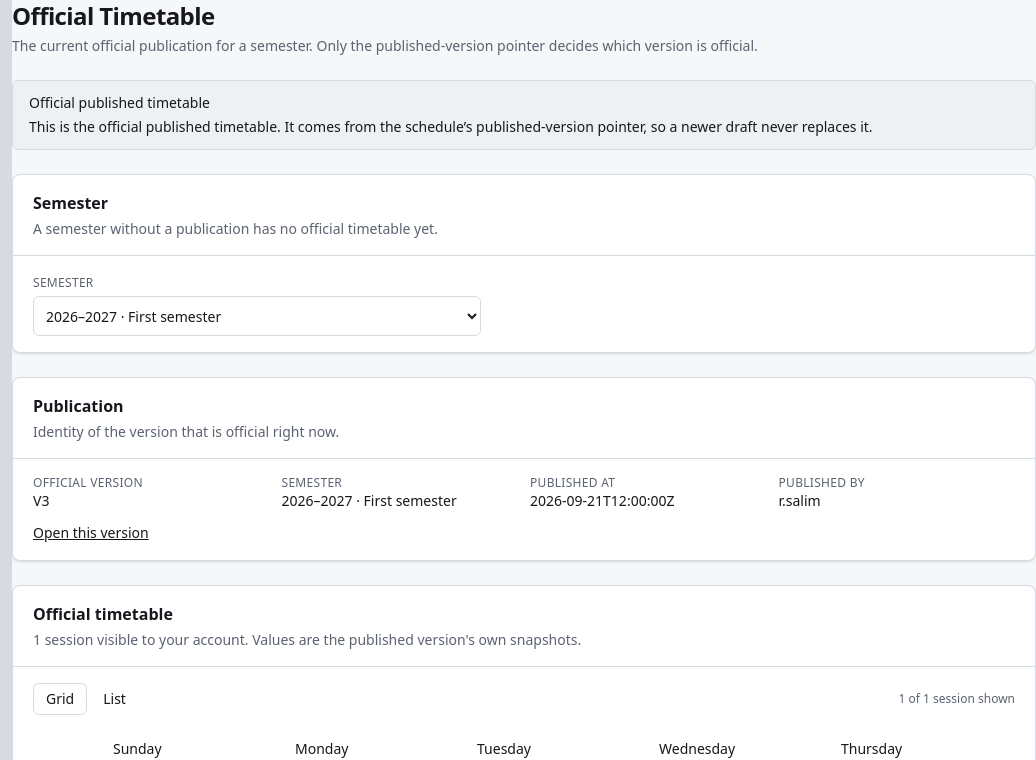
Test case: official timetable › shows the managing department of each session of a college-wide publication
Expected: the text "V3" is shown, [33,491,49,510]
Click the button "List" at (115, 699), box [91,683,138,715]
(page scrolled)
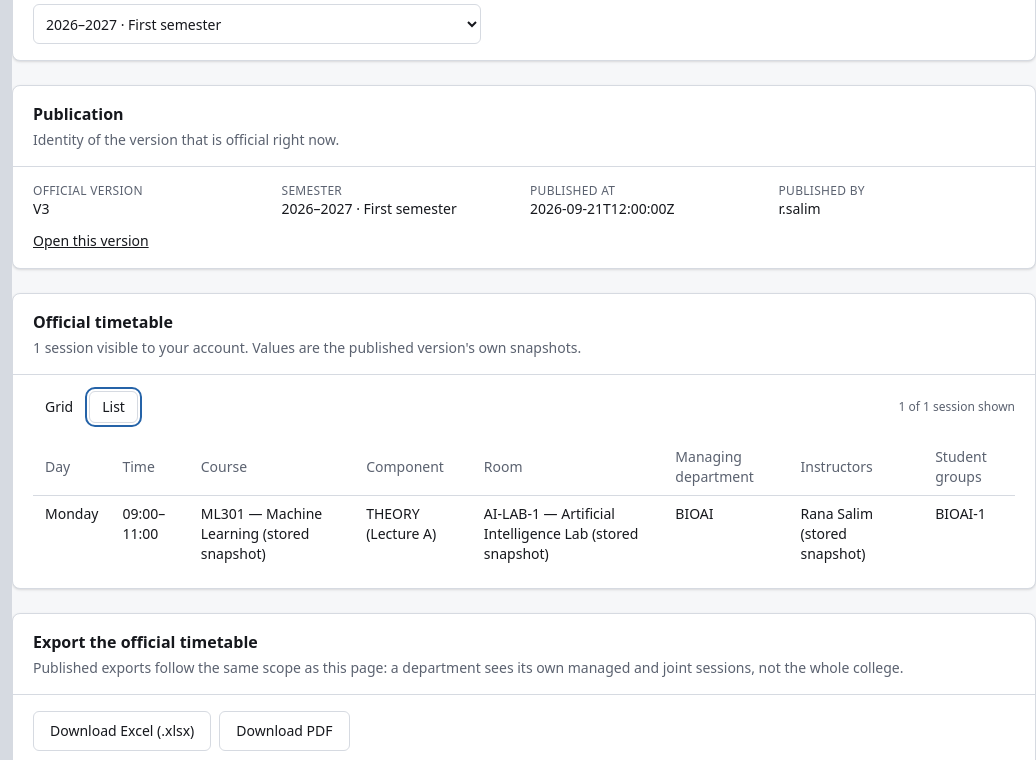
Result: the column heading "Managing department" is shown at [663,439,788,496]
Result: the text "BIOAI" is shown at [663,496,788,572]
